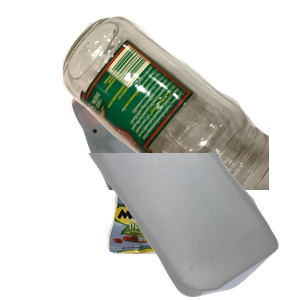glass: (60, 14, 300, 194)
metal: (69, 58, 300, 238)
plastic: (84, 153, 300, 300)
trash: (105, 152, 280, 300)
